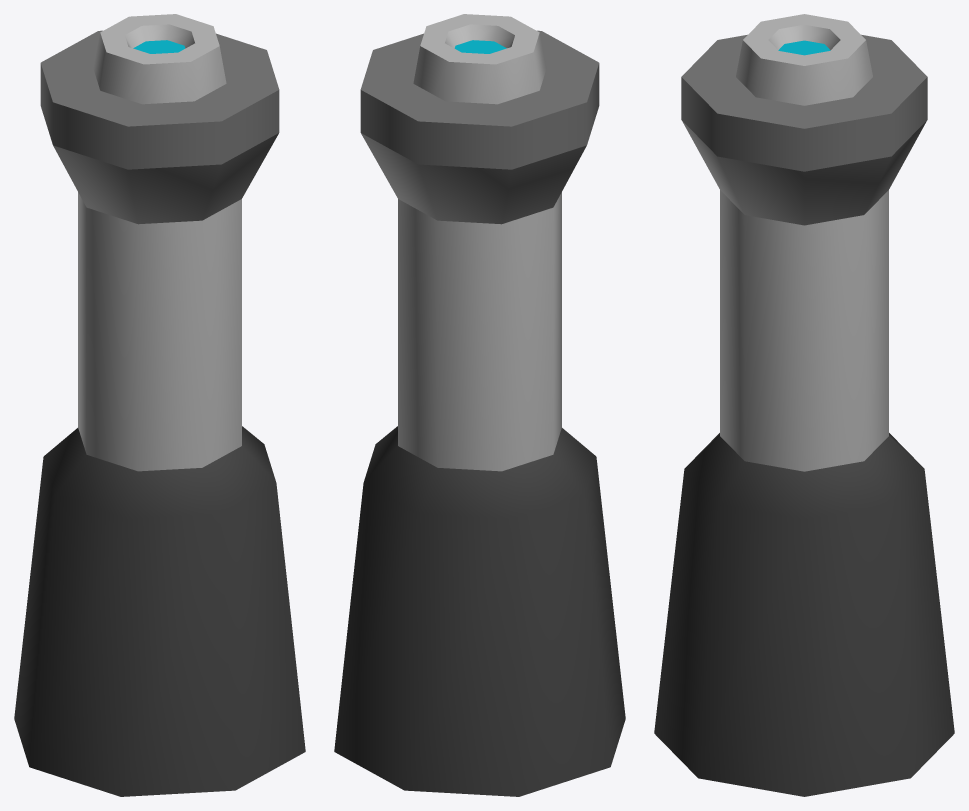
Rendered from space_station_decoration_020.fbx.
3 renders of one model, left to right at view 1: azimuth 30°, elevation 25°; view 2: azimuth 150°, elevation 25°; view 3: azimuth 270°, elevation 25°, orthographic.
Visible parts, largest first — view 1: space_station_decoration_020; view 2: space_station_decoration_020; view 3: space_station_decoration_020.
Boxes of the visible parts, x1,y1,x2,y2 form: space_station_decoration_020: (14, 14, 305, 796); space_station_decoration_020: (334, 14, 625, 796); space_station_decoration_020: (654, 14, 954, 796).
Size of the model in its own units: 197 by 197 by 502.
